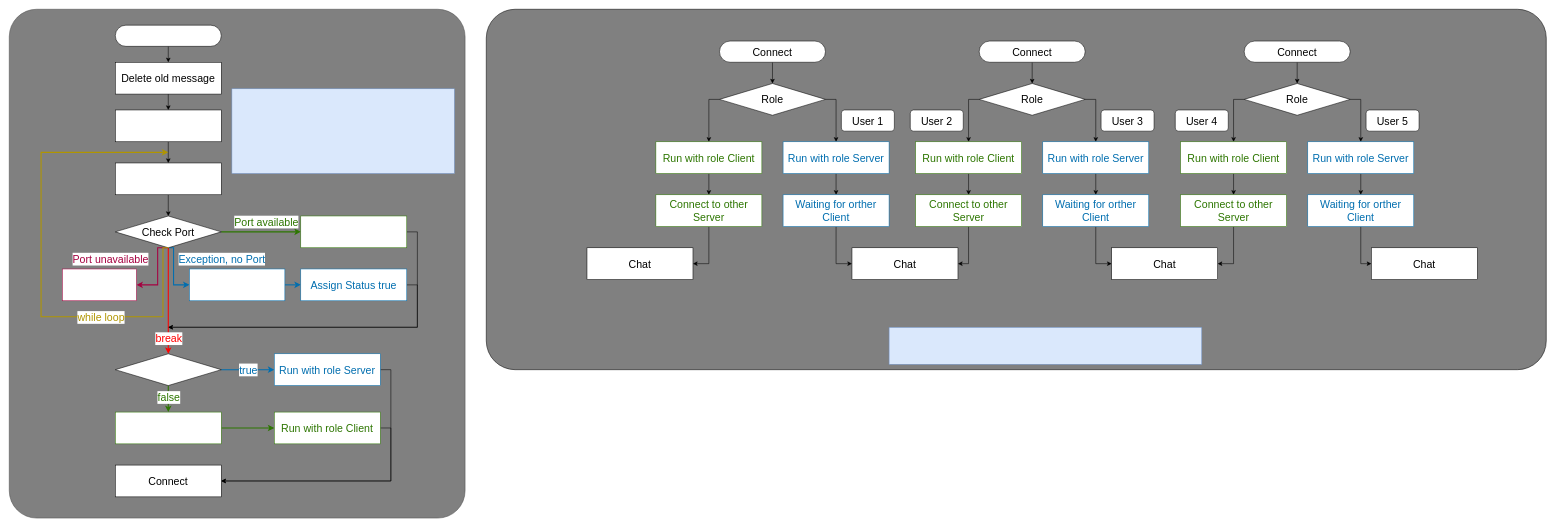
This 1556x527 diagram has some shape labels left out. Here are the shapes that lost their labels. From the top down, the centre of each, then its label:
(168,35): Click Start button
(168,125): Enable chat input
(342,131): "Select Role" Algorithm Flowchart
(168,178): Create IP Address
(353,231): Assign Status false
(99,284): Increase Port
(237,284): Insert IP:Port to DB
(1045,345): "User Connection" Flowchart
(168,369): Check Status
(168,428): Update Port to unvailable
